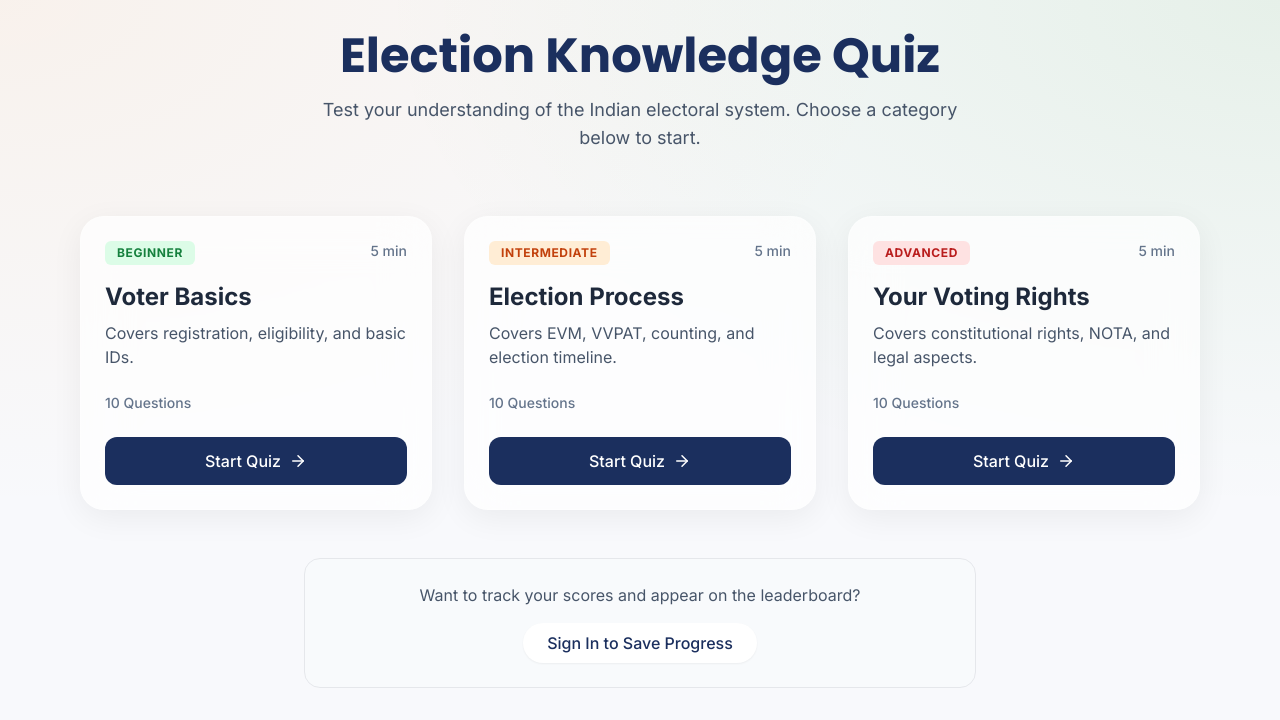
Test case: Quiz Page › Quiz Navigation › should return to category screen when Quit is clicked
Click the button "Start Quiz" below "Voter Basics" at (256, 461), box [105,437,407,485]
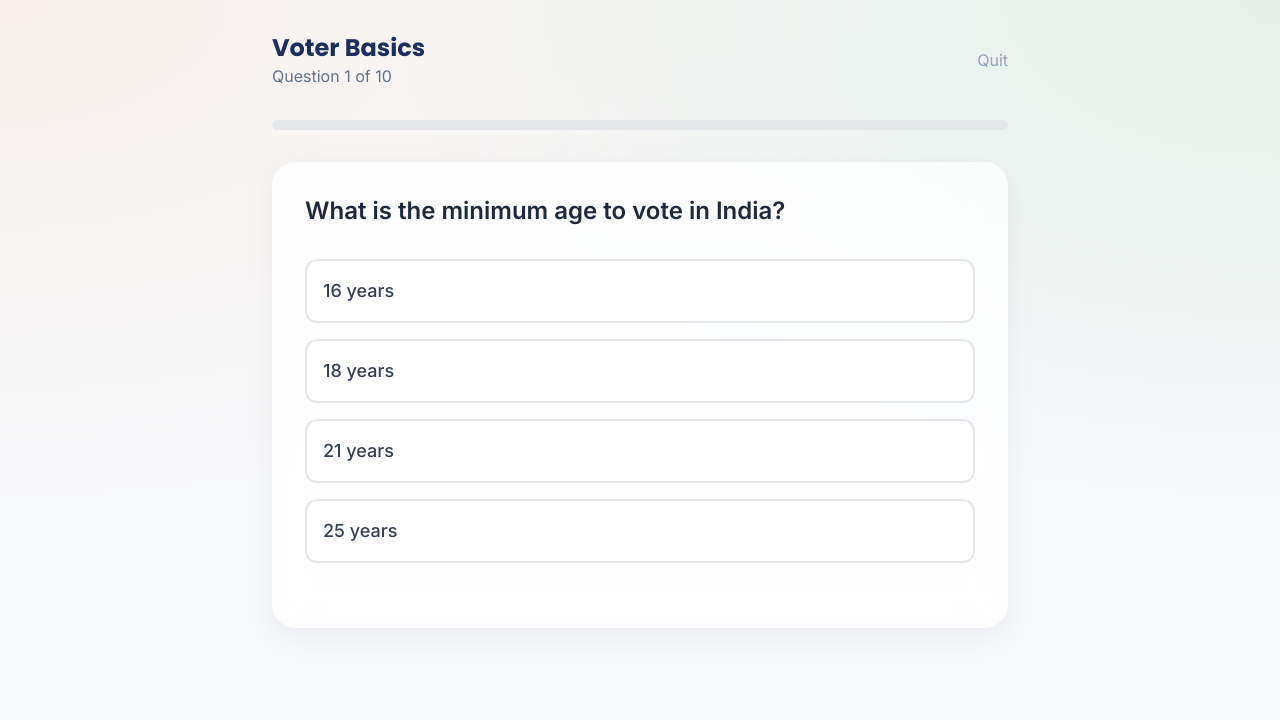
Expected: the button "Quit" is shown
Click the button "Quit" at (993, 60), box [977,48,1008,72]
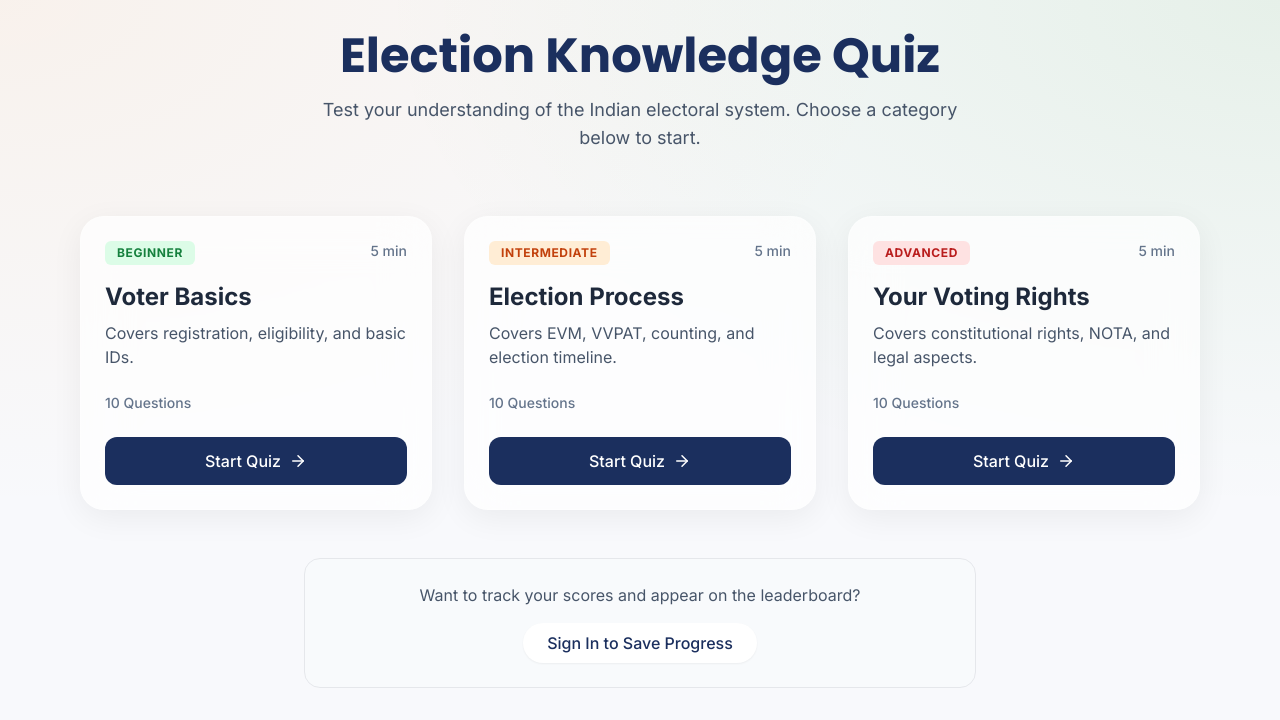
Expected: the heading "Election Knowledge Quiz" is shown, [340,22,940,89]
